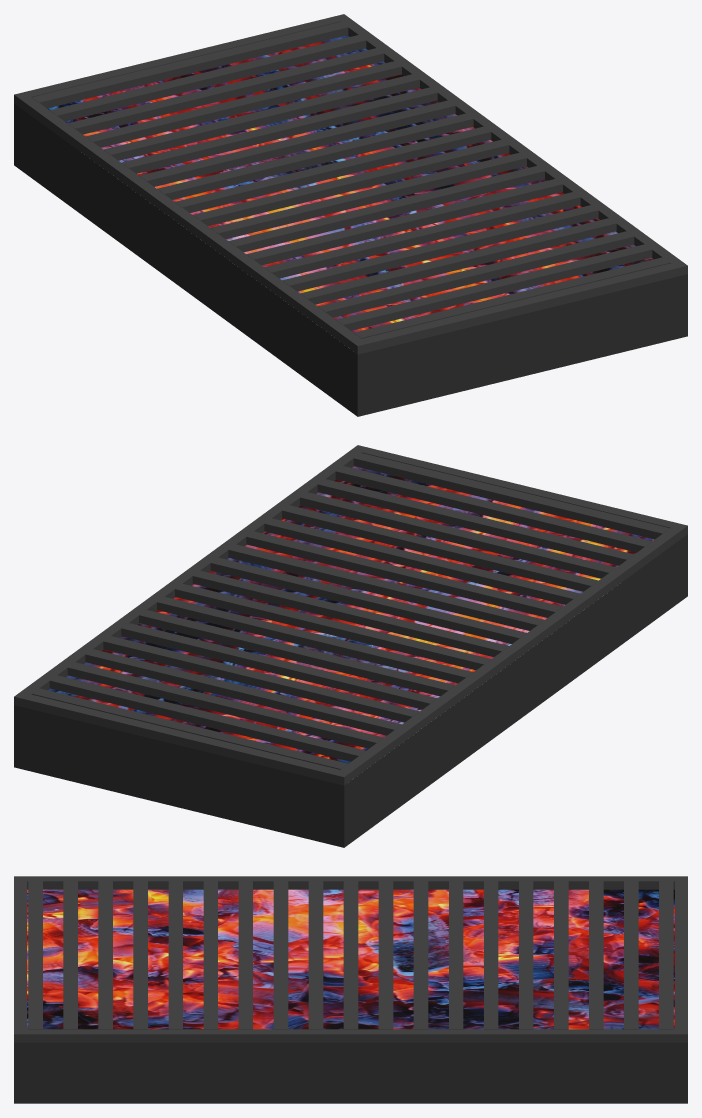
The model's file is asset_koz_mangal.fbx.
3 views of the same model, one above another, from view 1: azimuth 30°, elevation 25°; view 2: azimuth 150°, elevation 25°; view 3: azimuth 270°, elevation 25° (orthographic). The views are drawn at different scales.
Parts seen in each view (by area): view 1: mangal_ust_izgara, mangal_al, mangal_ust, koz; view 2: mangal_ust_izgara, mangal_al, mangal_ust, koz; view 3: koz, mangal_ust_izgara, mangal_al, mangal_ust.
Part boxes in pixels (x1=…): mangal_ust_izgara: x1=32, y1=22, x2=669, y2=338; mangal_al: x1=14, y1=103, x2=687, y2=416; mangal_ust: x1=14, y1=14, x2=687, y2=354; koz: x1=47, y1=35, x2=653, y2=332; mangal_ust_izgara: x1=32, y1=453, x2=669, y2=769; mangal_al: x1=14, y1=534, x2=687, y2=847; mangal_ust: x1=14, y1=445, x2=687, y2=785; koz: x1=48, y1=466, x2=654, y2=763; koz: x1=27, y1=889, x2=674, y2=1029; mangal_ust_izgara: x1=28, y1=881, x2=673, y2=1029; mangal_al: x1=14, y1=1042, x2=687, y2=1103; mangal_ust: x1=14, y1=876, x2=687, y2=1042.
Bounding box in the file's own units: 111 × 22.75 × 200.
Materials: 3 (3 with a texture image).
